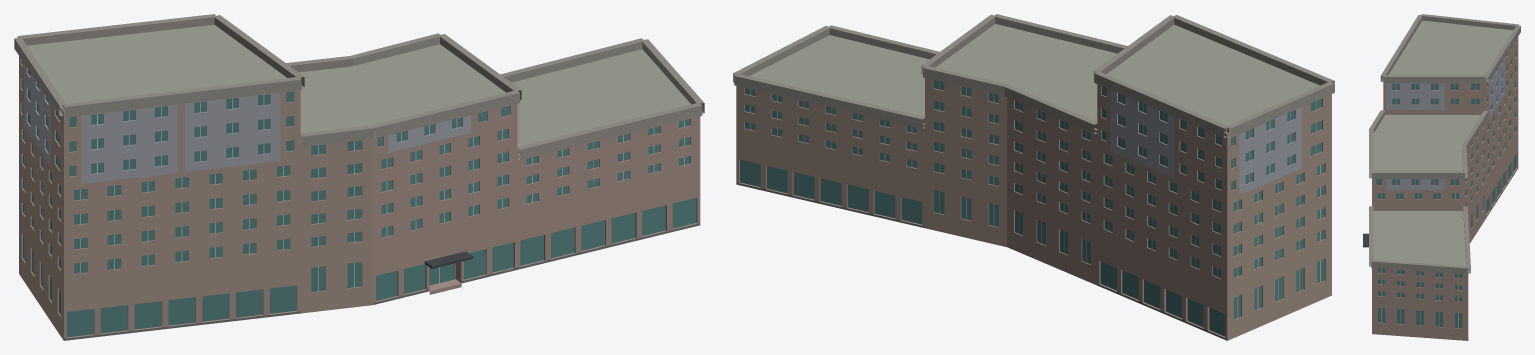
The picture shows the model from 3 angles, left to right: view 1: azimuth 30°, elevation 25°; view 2: azimuth 150°, elevation 25°; view 3: azimuth 270°, elevation 25°; orthographic projection. The views are drawn at different scales.
Parts seen in each view (by area): view 1: facility-1436367104__wall, facility-1436367104__roof, facility-1436367104__glass, facility-1436367104__trim, facility-1436367104__wall2, facility-1436367104__frame, facility-1436367104__base; view 2: facility-1436367104__wall, facility-1436367104__roof, facility-1436367104__glass, facility-1436367104__trim, facility-1436367104__wall2, facility-1436367104__frame, facility-1436367104__base; view 3: facility-1436367104__roof, facility-1436367104__wall, facility-1436367104__trim, facility-1436367104__glass, facility-1436367104__wall2, facility-1436367104__frame.
Part boxes in pixels (x1,y1,x2,y2): facility-1436367104__wall: [19, 56, 700, 340]; facility-1436367104__roof: [27, 24, 699, 340]; facility-1436367104__glass: [21, 60, 696, 337]; facility-1436367104__trim: [14, 14, 704, 160]; facility-1436367104__wall2: [24, 63, 471, 183]; facility-1436367104__frame: [24, 85, 684, 291]; facility-1436367104__base: [64, 223, 700, 340]; facility-1436367104__wall: [736, 78, 1331, 340]; facility-1436367104__roof: [737, 24, 1325, 340]; facility-1436367104__glass: [740, 80, 1324, 336]; facility-1436367104__trim: [733, 14, 1334, 137]; facility-1436367104__wall2: [1110, 90, 1301, 195]; facility-1436367104__frame: [750, 81, 1320, 318]; facility-1436367104__base: [736, 182, 1227, 340]; facility-1436367104__roof: [1372, 20, 1513, 340]; facility-1436367104__wall: [1372, 37, 1518, 340]; facility-1436367104__trim: [1369, 14, 1520, 274]; facility-1436367104__glass: [1376, 40, 1516, 328]; facility-1436367104__wall2: [1386, 57, 1504, 190]; facility-1436367104__frame: [1381, 62, 1504, 328].
Bounding box in the file's own units: 78.49 × 28.61 × 28.29.
